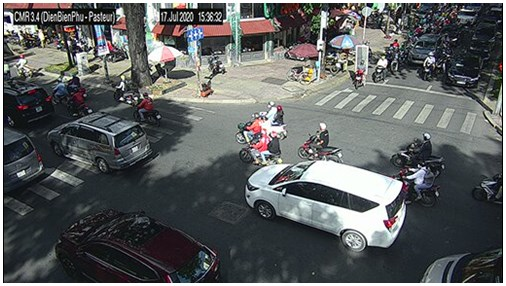xe_hoi: (244, 161, 407, 251), (55, 208, 221, 284), (46, 111, 153, 174), (3, 127, 45, 192), (4, 81, 55, 125), (448, 55, 483, 89), (409, 33, 439, 64), (467, 36, 491, 61), (474, 23, 496, 44)
xe_may: (391, 132, 445, 177), (393, 162, 440, 208), (298, 121, 343, 164), (240, 128, 283, 166), (133, 92, 162, 126), (236, 112, 267, 143), (262, 102, 287, 140), (473, 172, 502, 203), (66, 87, 92, 119), (113, 75, 135, 105), (16, 53, 34, 82), (421, 51, 435, 82), (354, 58, 366, 91), (54, 78, 68, 105), (375, 55, 387, 84), (437, 49, 450, 75), (66, 72, 81, 93), (390, 49, 399, 72)
